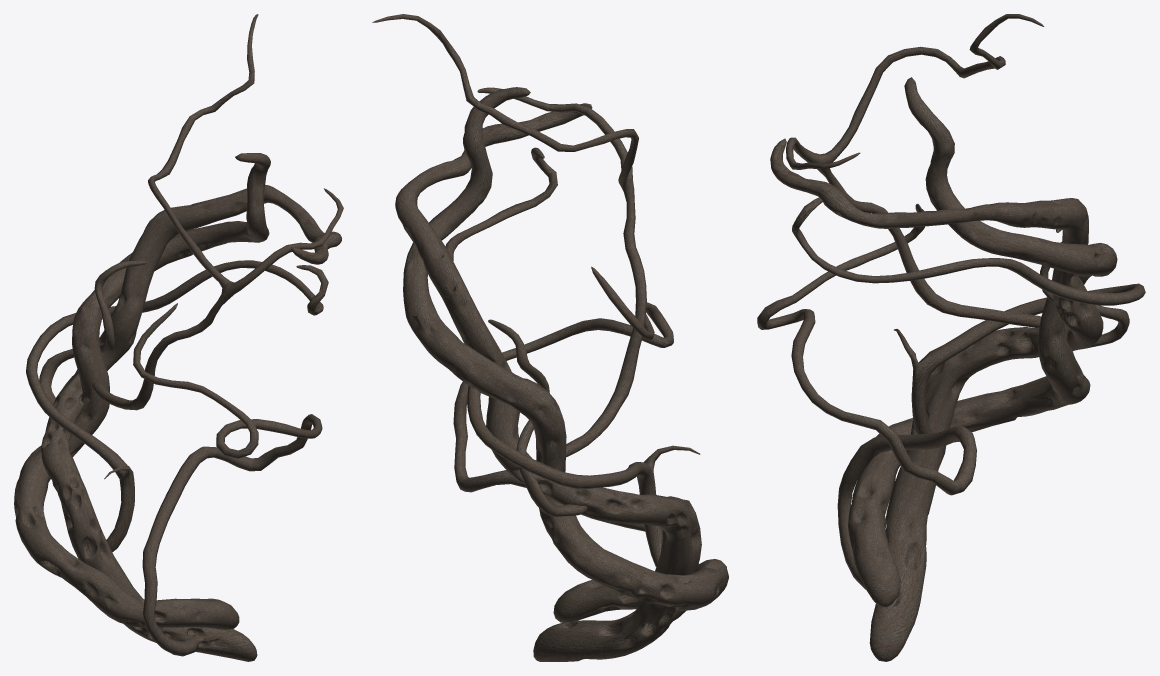
File: SM_BigTree006.fbx
3 renders of one model, left to right at view 1: azimuth 30°, elevation 25°; view 2: azimuth 150°, elevation 25°; view 3: azimuth 270°, elevation 25°, orthographic. The views are drawn at different scales.
Parts seen in each view (by area): view 1: SM_BigTree006; view 2: SM_BigTree006; view 3: SM_BigTree006.
Part boxes in pixels (x1=…): SM_BigTree006: x1=14, y1=14, x2=343, y2=661; SM_BigTree006: x1=372, y1=14, x2=728, y2=661; SM_BigTree006: x1=757, y1=14, x2=1145, y2=661.
Bounding box in the file's own units: 12484 × 26625 × 13735.
